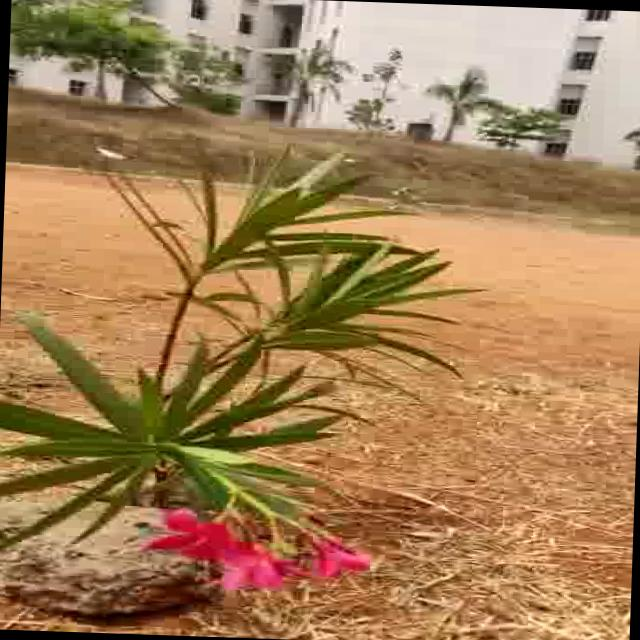Oleander: (18, 146, 468, 606)
